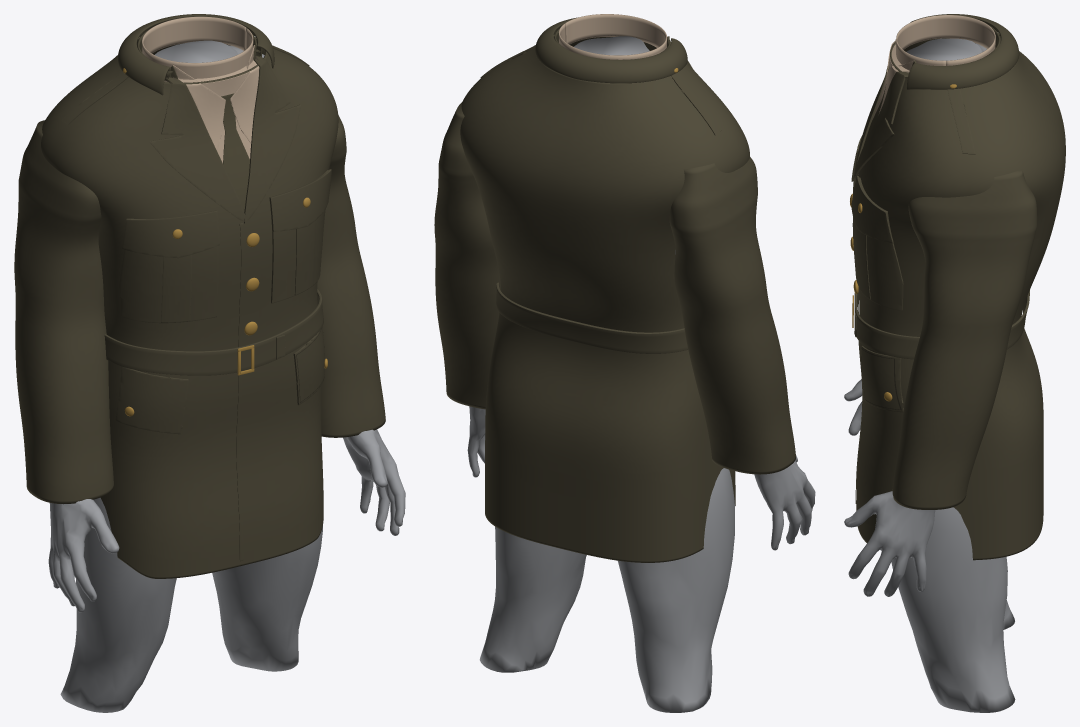
File: coat-agsu-male.glb
3 views of the same model, side by side, from view 1: azimuth 30°, elevation 25°; view 2: azimuth 150°, elevation 25°; view 3: azimuth 270°, elevation 25° (orthographic). The views are drawn at different scales.
Parts seen in each view (by area): view 1: Coat, Mannequin, SleeveR, SleeveL, LapelR, Belt, BreastBody-1, LapelL, LowerFlap-1, BreastFlap-1, ShirtCollar, CollarFall (+11 smaller); view 2: Coat, Mannequin, SleeveR, SleeveL, CollarFall, Belt, ShirtCollar, Loop-1; view 3: Coat, SleeveL, Mannequin, CollarFall, ShirtCollar, BreastBody1, LowerFlap1, Belt, LapelL, BreastFlap1, Loop1, BreastPleat1 (+2 smaller).
Part boxes in pixels (bbox=[...]): Coat: bbox=[41, 36, 338, 578]; Mannequin: bbox=[48, 40, 405, 712]; SleeveR: bbox=[14, 120, 113, 504]; SleeveL: bbox=[317, 115, 385, 437]; LapelR: bbox=[149, 65, 246, 222]; Belt: bbox=[104, 289, 323, 375]; BreastBody-1: bbox=[119, 218, 218, 323]; LapelL: bbox=[244, 45, 300, 223]; LowerFlap-1: bbox=[115, 366, 188, 434]; BreastFlap-1: bbox=[122, 210, 219, 258]; ShirtCollar: bbox=[142, 16, 253, 81]; CollarFall: bbox=[117, 14, 274, 95]; Coat: bbox=[460, 34, 749, 562]; Mannequin: bbox=[467, 36, 815, 712]; SleeveR: bbox=[669, 157, 795, 474]; SleeveL: bbox=[434, 102, 500, 409]; CollarFall: bbox=[535, 17, 687, 83]; Belt: bbox=[496, 282, 688, 353]; ShirtCollar: bbox=[558, 14, 666, 59]; Loop-1: bbox=[671, 72, 721, 135]; Coat: bbox=[856, 33, 1065, 560]; SleeveL: bbox=[892, 169, 1037, 509]; Mannequin: bbox=[844, 38, 1015, 712]; CollarFall: bbox=[906, 14, 1019, 89]; ShirtCollar: bbox=[896, 15, 995, 65]; BreastBody1: bbox=[852, 177, 903, 310]; LowerFlap1: bbox=[861, 345, 903, 412]; Belt: bbox=[854, 290, 1029, 359]; LapelL: bbox=[853, 60, 916, 179]; BreastFlap1: bbox=[851, 175, 893, 243]; Loop1: bbox=[947, 88, 975, 154]; BreastPleat1: bbox=[856, 226, 870, 299].
Size of the model in its own units: 24.03 by 43.1 by 13.9.
